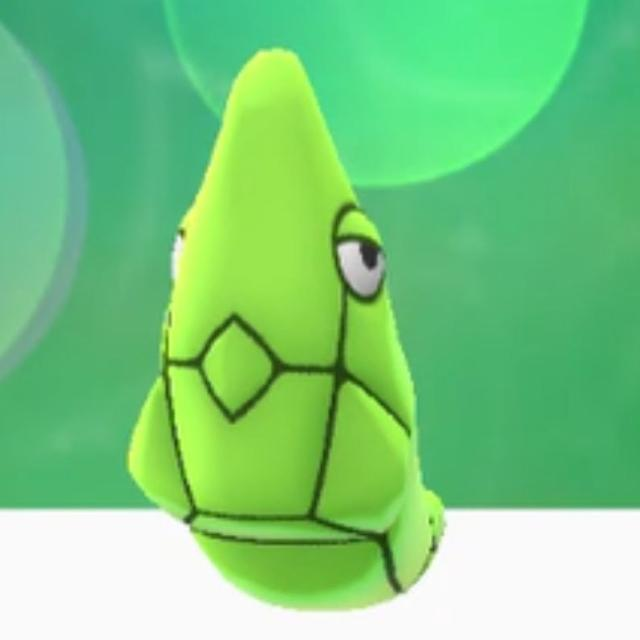Metapod: (123, 31, 459, 621)
